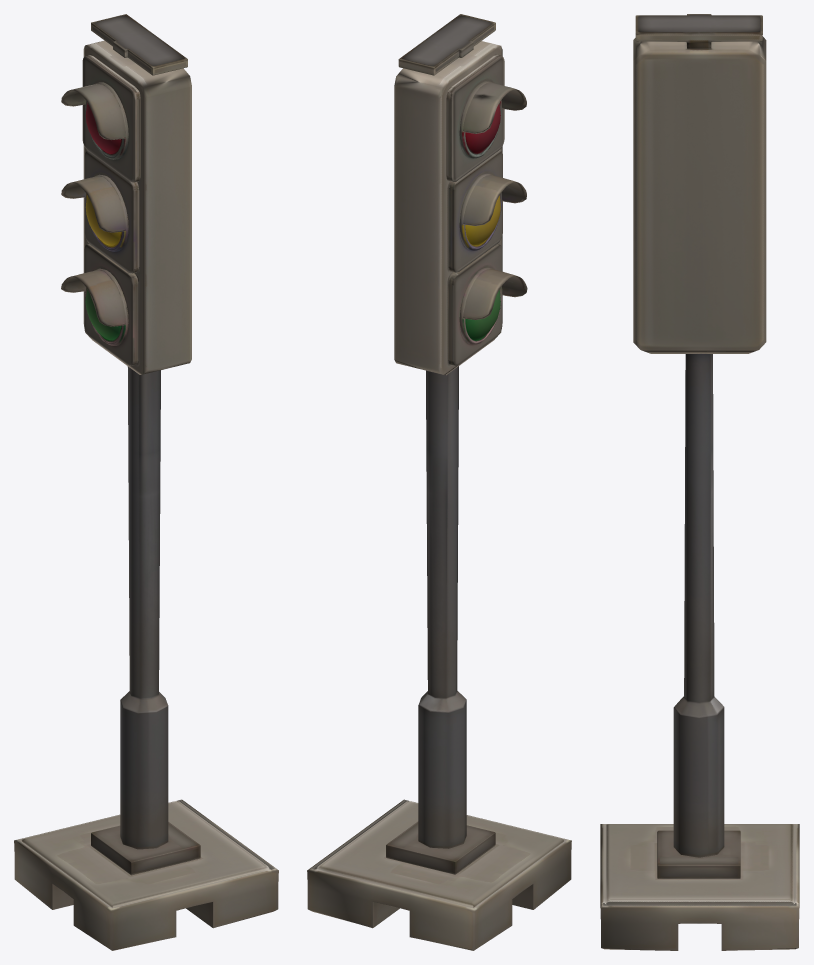
The model's file is traffic+light+3d+model.fbx.
The picture shows the model from 3 angles, left to right: view 1: azimuth 30°, elevation 25°; view 2: azimuth 150°, elevation 25°; view 3: azimuth 270°, elevation 25°; orthographic projection. The views are drawn at different scales.
Parts seen in each view (by area): view 1: tripo_36abe2c1_2f99_45b0_8eff_ea446acce952; view 2: tripo_36abe2c1_2f99_45b0_8eff_ea446acce952; view 3: tripo_36abe2c1_2f99_45b0_8eff_ea446acce952.
Part boxes in pixels (left/top/right/bottom): tripo_36abe2c1_2f99_45b0_8eff_ea446acce952: left=14, top=14, right=278, bottom=950; tripo_36abe2c1_2f99_45b0_8eff_ea446acce952: left=307, top=14, right=571, bottom=950; tripo_36abe2c1_2f99_45b0_8eff_ea446acce952: left=600, top=14, right=799, bottom=950.
Size of the model in its own units: 0.2046 by 0.9995 by 0.2046.
Materials: 1 (1 with a texture image).
